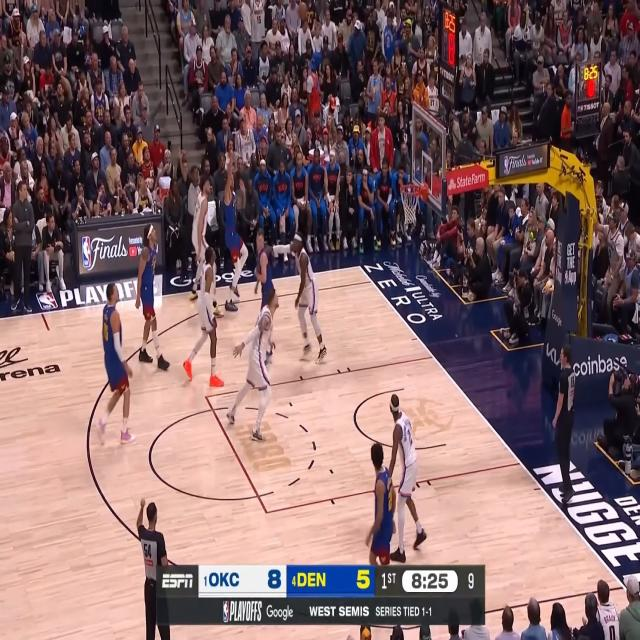ball: (298, 3, 307, 20)
number: (407, 428, 413, 448)
player: (266, 231, 328, 367), (226, 288, 279, 442), (389, 392, 426, 564), (98, 283, 136, 446), (183, 245, 225, 387), (134, 224, 171, 370), (189, 176, 224, 318), (222, 147, 250, 312), (366, 442, 396, 564), (253, 227, 277, 366)
referee: (136, 500, 172, 640), (177, 146, 207, 290), (552, 344, 577, 504)
rim: (399, 182, 421, 196)
